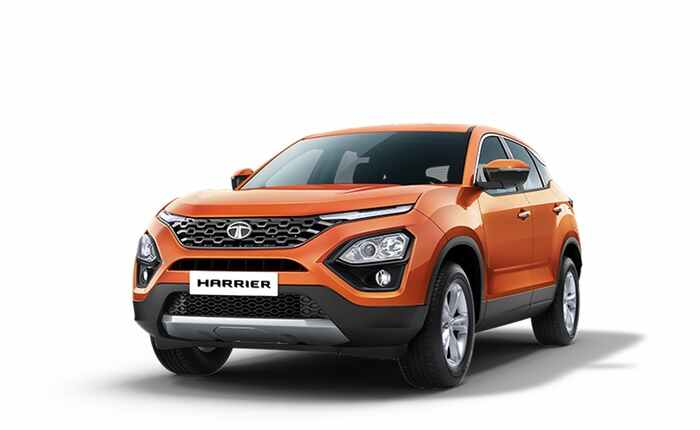Car: (127, 123, 586, 389)
